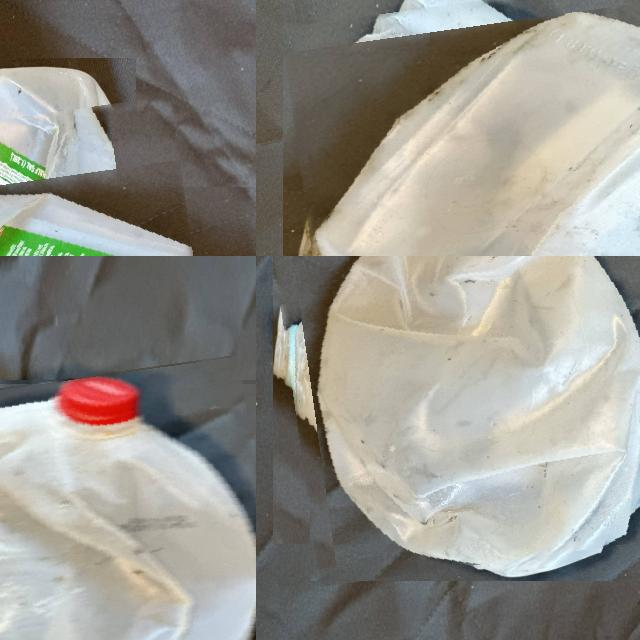milk-jug: (279, 256, 640, 574), (294, 0, 640, 256), (0, 368, 256, 640), (0, 109, 213, 256)
